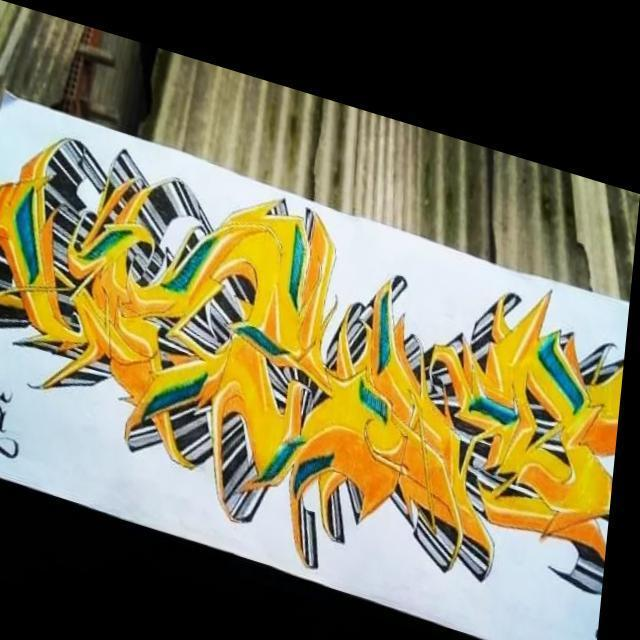-: (0, 108, 632, 614), (0, 364, 48, 512), (584, 534, 611, 634)
